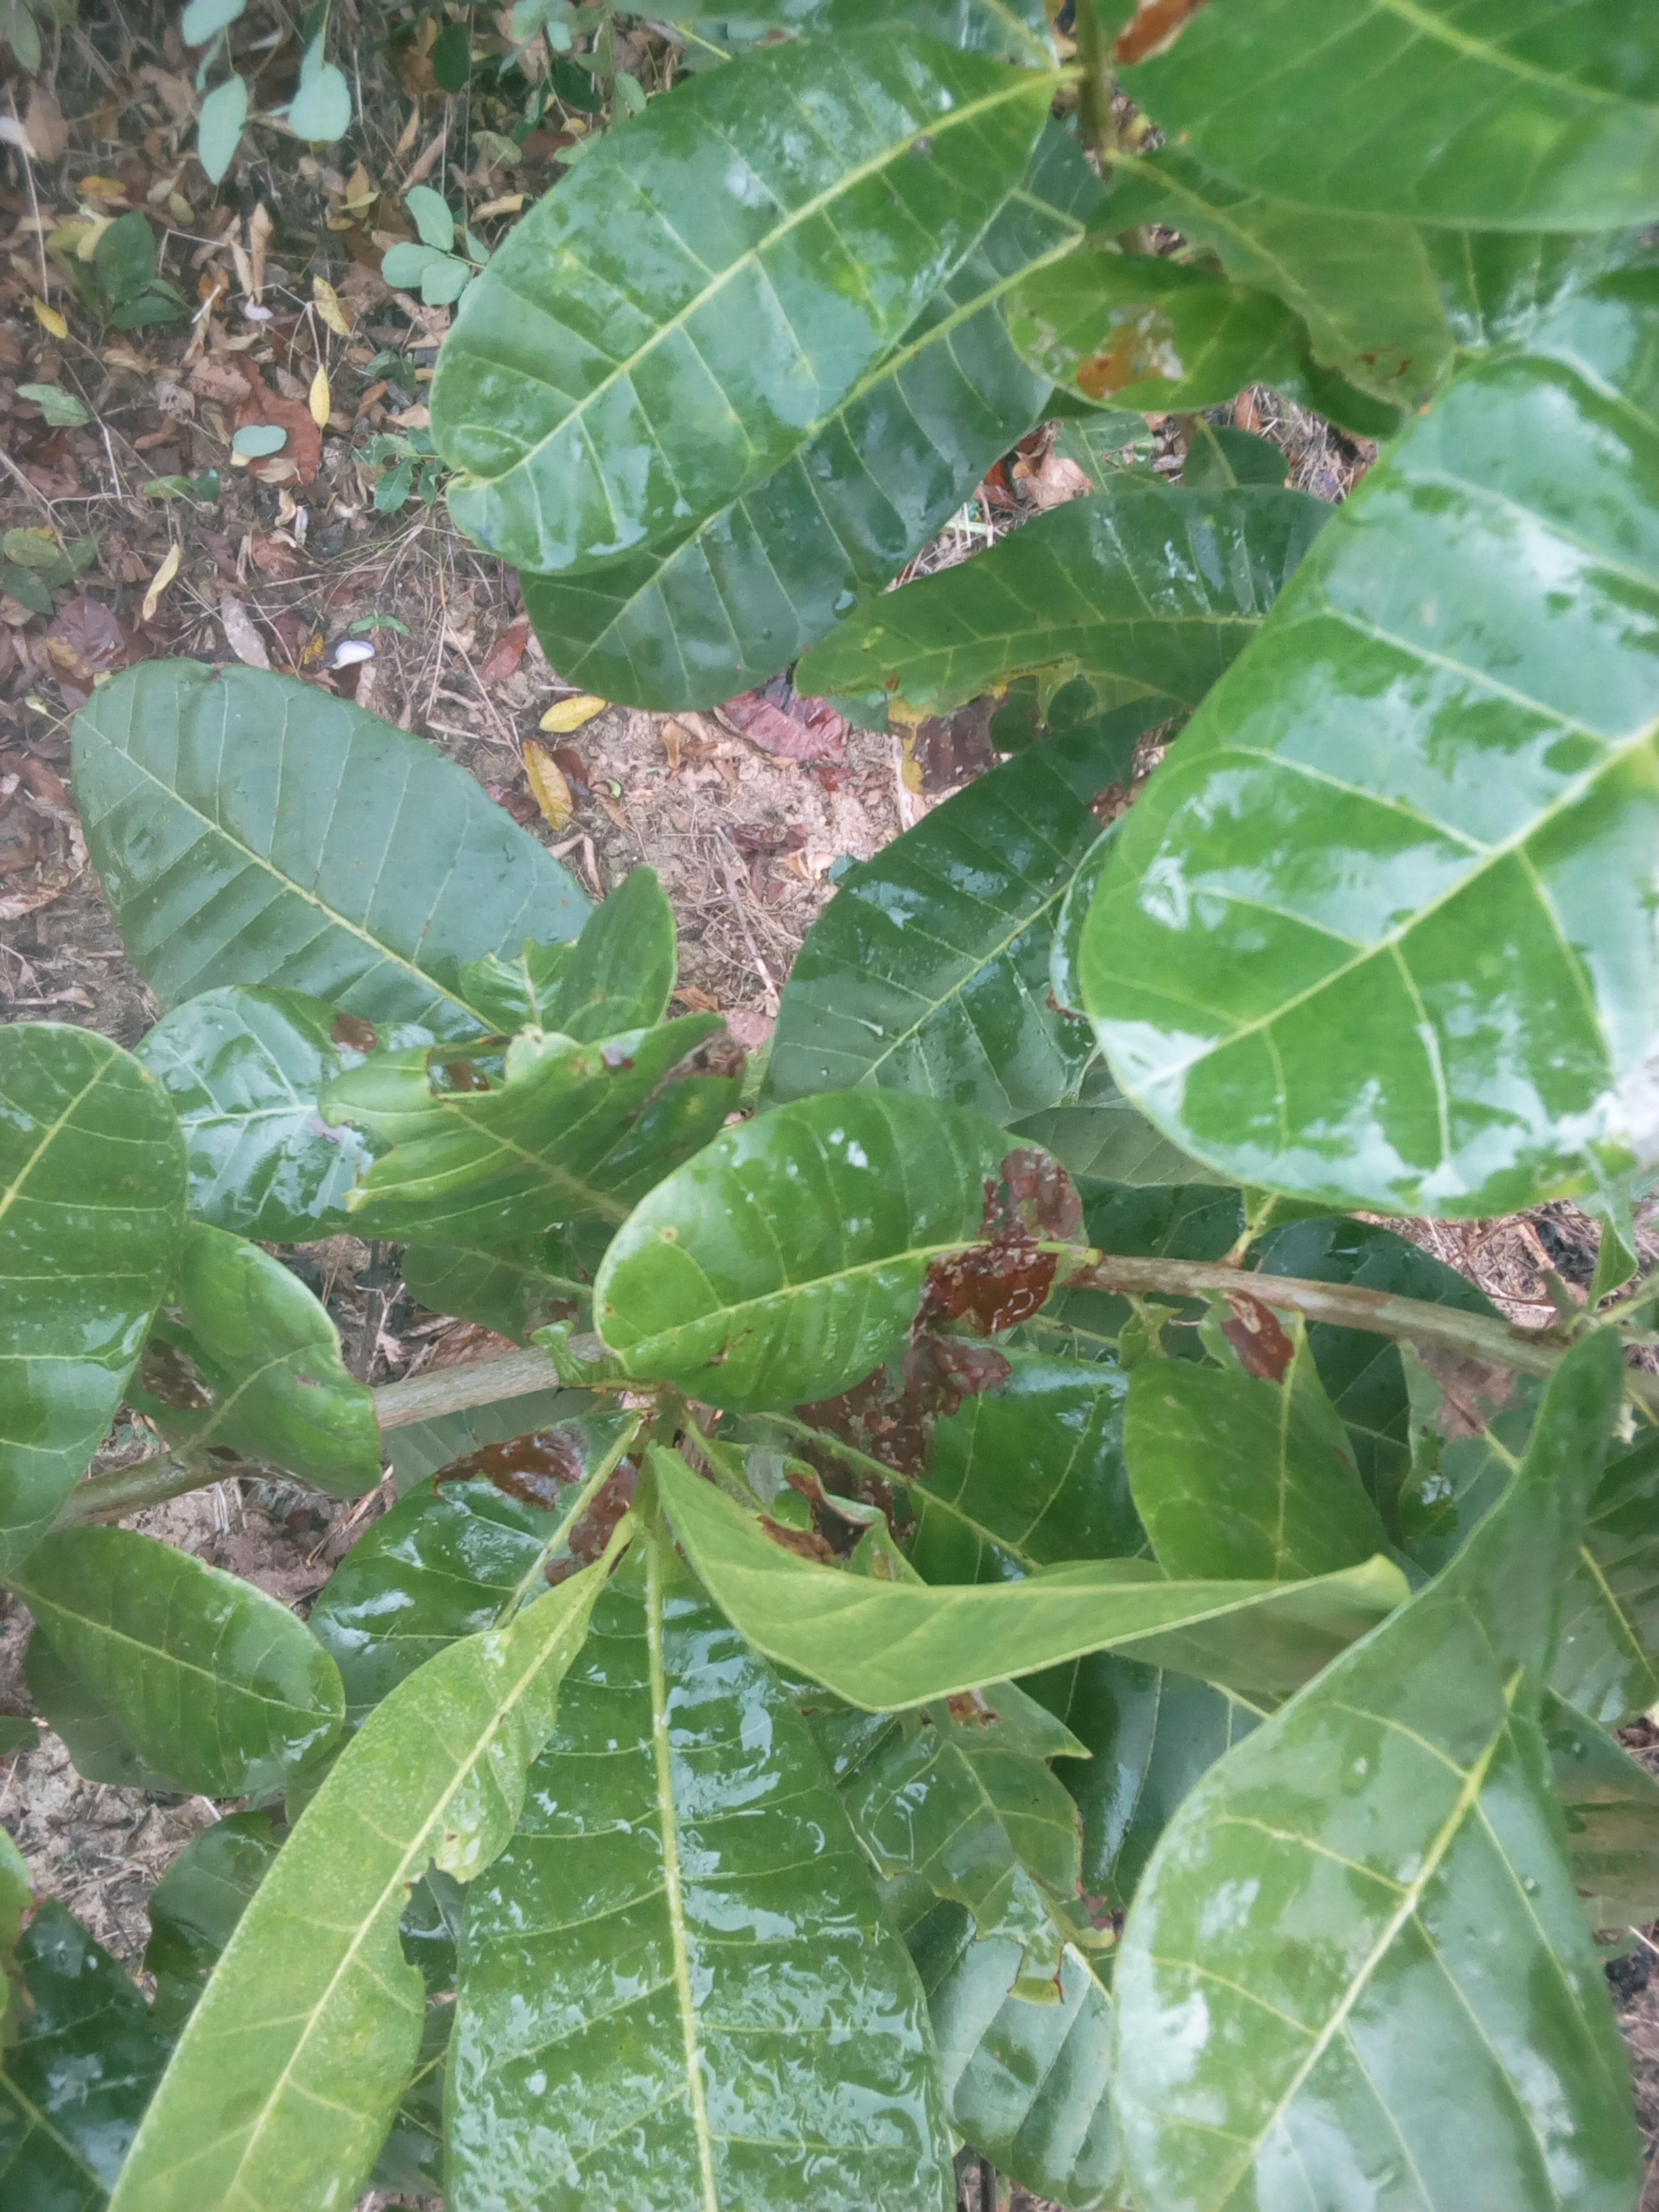Dysdercus wolkerii: (565, 1082, 1101, 1425)
